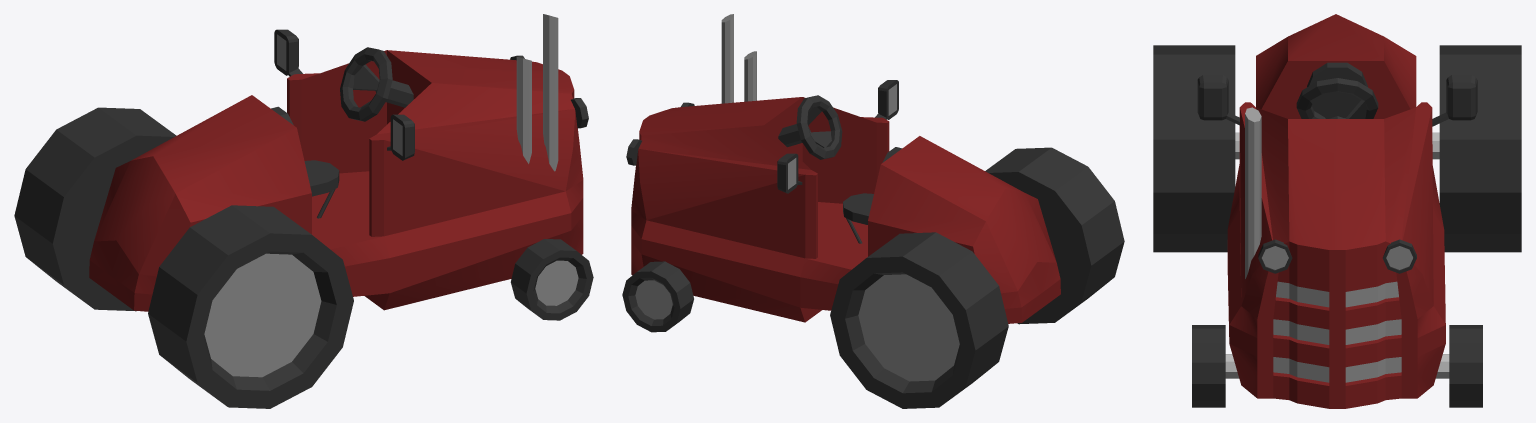
File: tractor_new.glb
3 views of the same model, side by side, from view 1: azimuth 30°, elevation 25°; view 2: azimuth 150°, elevation 25°; view 3: azimuth 270°, elevation 25° (orthographic). The views are drawn at different scales.
Visible parts, largest first — view 1: pCylinder13; view 2: pCylinder13; view 3: pCylinder13.
Part boxes in pixels (x1=…): pCylinder13: x1=14, y1=14, x2=593, y2=408; pCylinder13: x1=622, y1=14, x2=1124, y2=408; pCylinder13: x1=1153, y1=14, x2=1521, y2=408.
Size of the model in its own units: 13.87 by 8.05 by 8.87.
